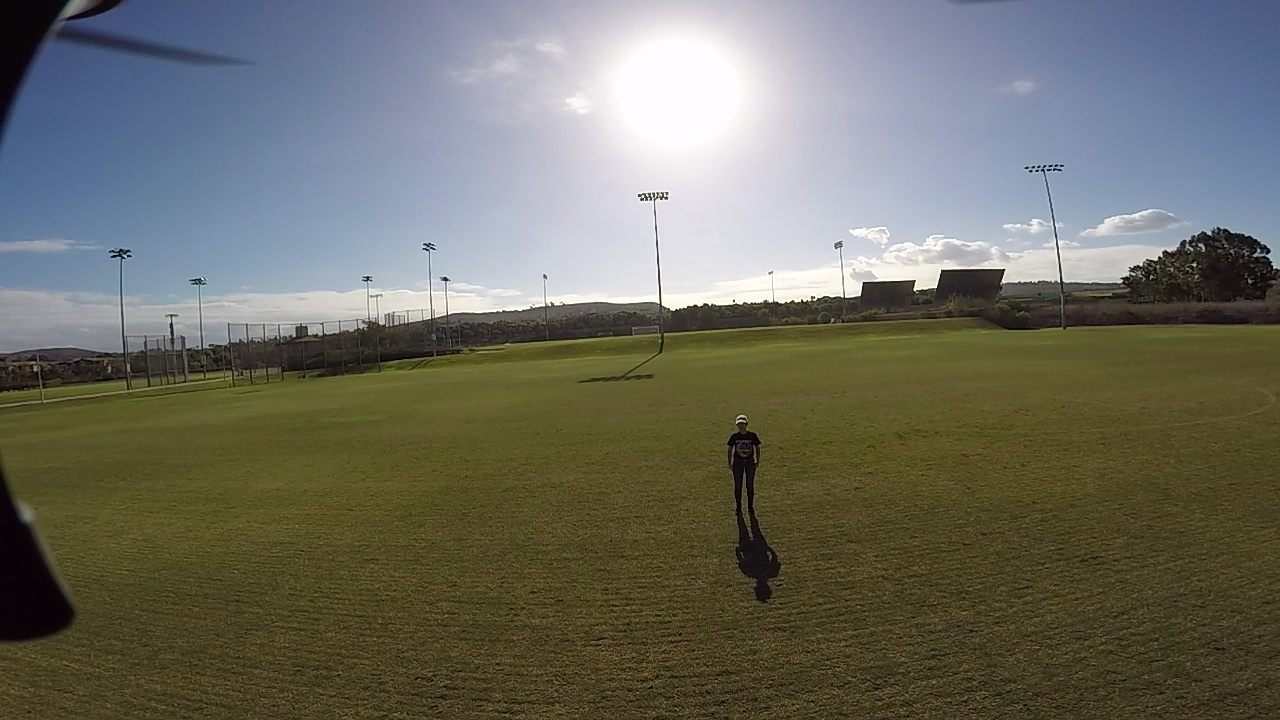person: (723, 414, 775, 585), (721, 406, 761, 532)
